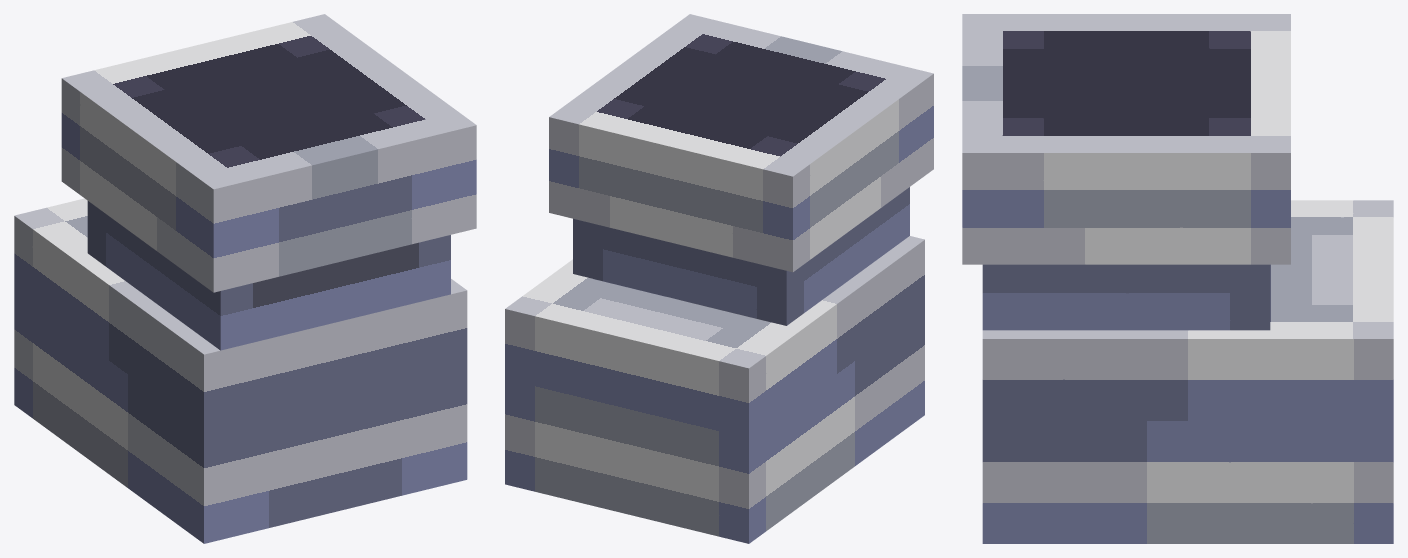
Rendered from ironarmor-foot-left.gltf.
The picture shows the model from 3 angles, left to right: view 1: azimuth 30°, elevation 25°; view 2: azimuth 150°, elevation 25°; view 3: azimuth 270°, elevation 25°; orthographic projection. The views are drawn at different scales.
Parts seen in each view (by area): view 1: iron; view 2: iron; view 3: iron.
Boxes of the visible parts, box(x1,y1,x2,y2) form: iron: box(14, 14, 476, 543); iron: box(505, 14, 933, 543); iron: box(962, 14, 1393, 543).
Size of the model in its own units: 0.25 by 0.3438 by 0.3281.
Materials: 2 (2 with a texture image).
